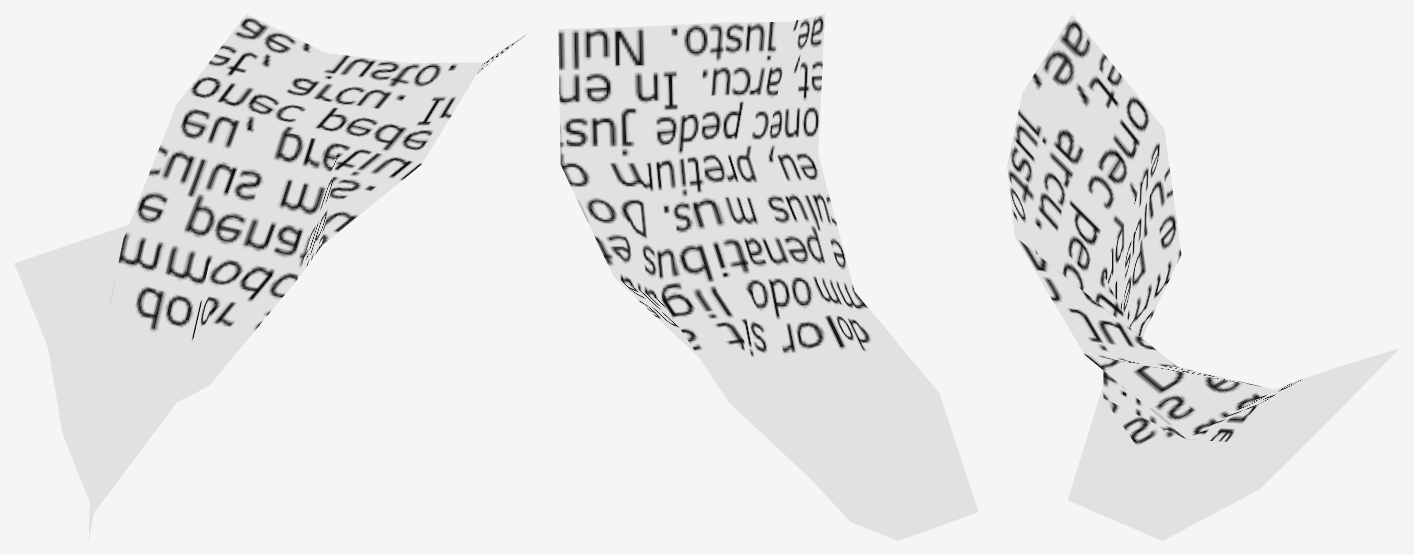
3 renders of one model, left to right at view 1: azimuth 30°, elevation 25°; view 2: azimuth 150°, elevation 25°; view 3: azimuth 270°, elevation 25°, orthographic. The views are drawn at different scales.
Parts seen in each view (by area): view 1: Plane.014; view 2: Plane.014; view 3: Plane.014.
Boxes of the visible parts, x1,y1,x2,y2 form: Plane.014: (14,14,528,539); Plane.014: (558,14,978,540); Plane.014: (1007,14,1399,540).
Size of the model in its own units: 0.3908 by 0.4218 by 0.2531.
Materials: 1 (1 with a texture image).
